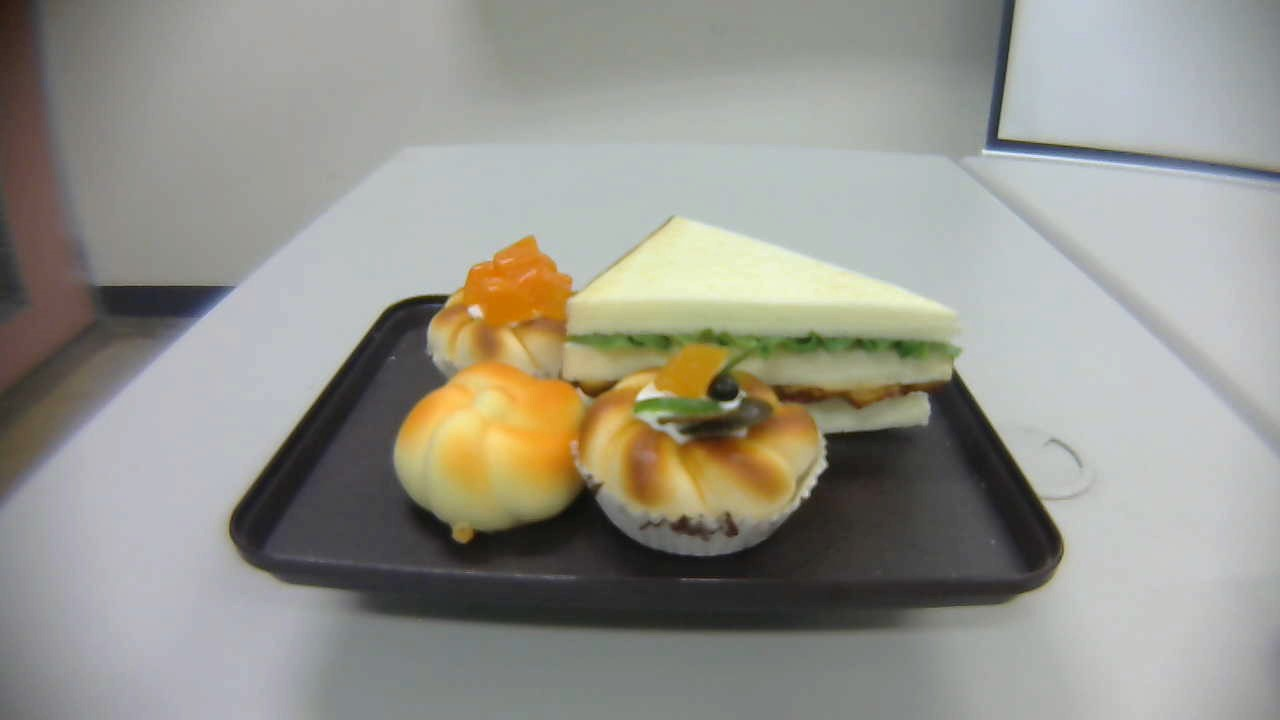fruit tart: (573, 343, 830, 556)
mango tart: (426, 233, 583, 383)
sandwich: (564, 214, 962, 435)
twist bread: (392, 360, 590, 547)
